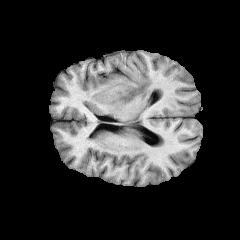glioma: (110, 74, 153, 116)
